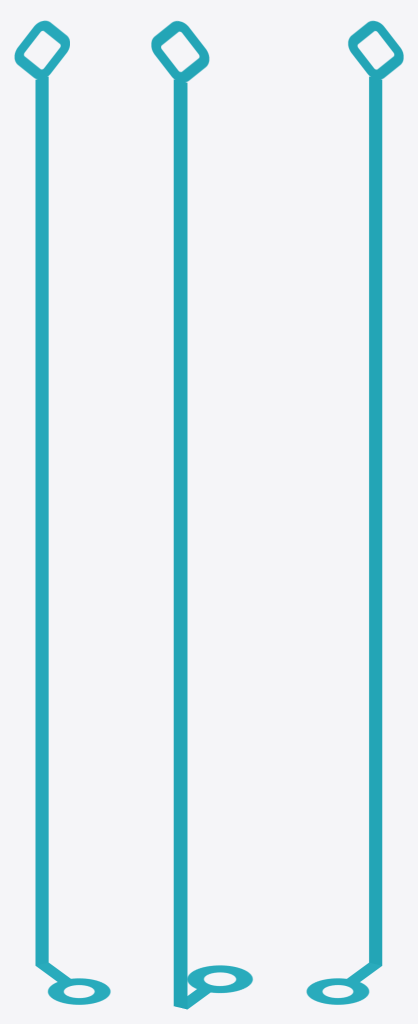
Rendered from 7_2_cl_inactive.glb.
3 views of the same model, side by side, from view 1: azimuth 30°, elevation 25°; view 2: azimuth 150°, elevation 25°; view 3: azimuth 330°, elevation 25° (orthographic). The views are drawn at different scales.
Parts seen in each view (by area): view 1: 7_2_cl_inactive; view 2: 7_2_cl_inactive; view 3: 7_2_cl_inactive.
Part boxes in pixels (left/top/right/bottom): 7_2_cl_inactive: left=14, top=20, right=110, bottom=1004; 7_2_cl_inactive: left=151, top=21, right=252, bottom=1009; 7_2_cl_inactive: left=306, top=20, right=403, bottom=1004.
Bounding box in the file's own units: 0.3315 × 5.35 × 0.5487.
Materials: 1 (1 with a texture image).
